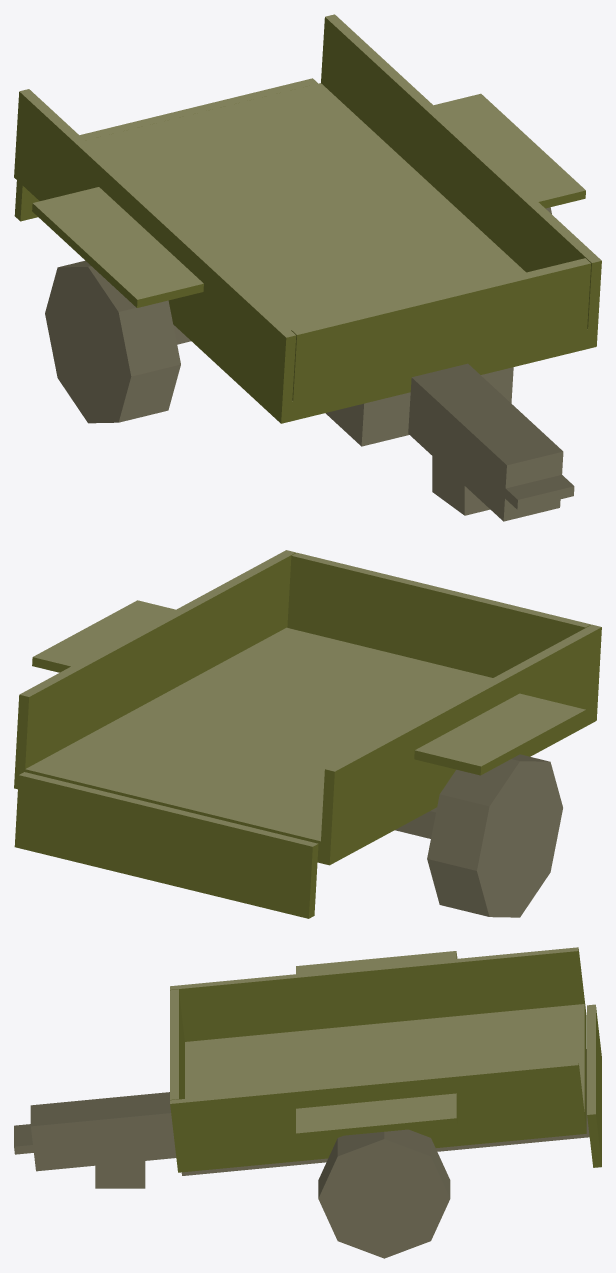
Rendered from SM_RemolqueMunicion_v4_Vacio_LOD1.fbx.
The picture shows the model from 3 angles, top to bottom: view 1: azimuth 30°, elevation 25°; view 2: azimuth 150°, elevation 25°; view 3: azimuth 270°, elevation 25°; orthographic projection. The views are drawn at different scales.
Parts seen in each view (by area): view 1: SM_remolque_municion_v4_LOD1; view 2: SM_remolque_municion_v4_LOD1; view 3: SM_remolque_municion_v4_LOD1.
Part boxes in pixels (left/top/right/bottom): SM_remolque_municion_v4_LOD1: left=14, top=14, right=601, bottom=521; SM_remolque_municion_v4_LOD1: left=14, top=550, right=601, bottom=918; SM_remolque_municion_v4_LOD1: left=14, top=947, right=601, bottom=1258.
Size of the model in its own units: 2.7 by 1.29 by 4.01.
